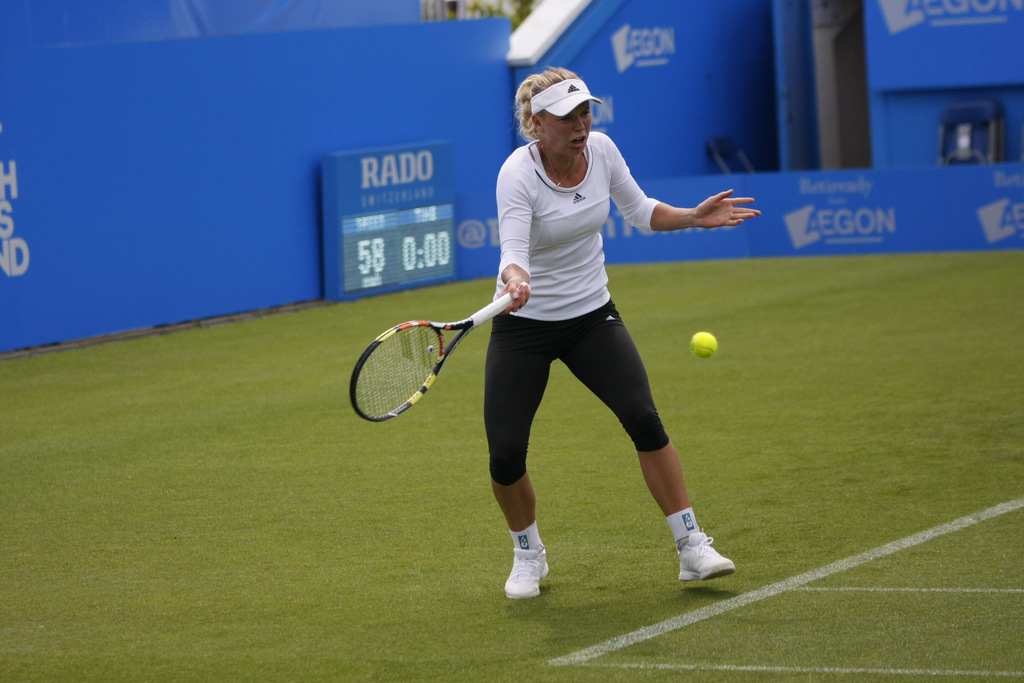Ball: (687, 332, 720, 363)
